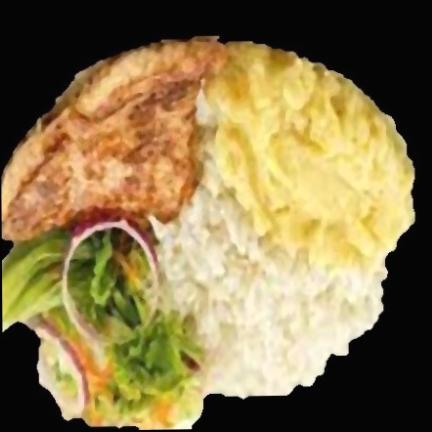chicken: (1, 41, 225, 241)
potato: (206, 44, 414, 270), (1, 40, 225, 241)
rice: (153, 142, 386, 397)
salad: (2, 219, 203, 430)
